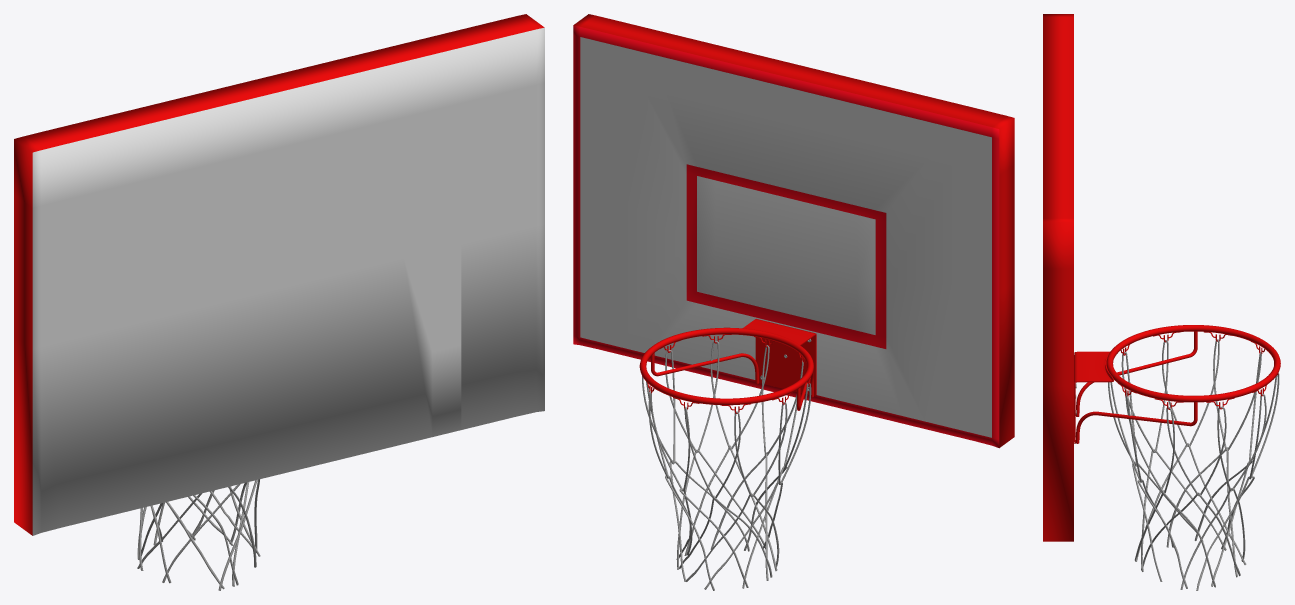
File: BasketballHoop.fbx
The picture shows the model from 3 angles, left to right: view 1: azimuth 30°, elevation 25°; view 2: azimuth 150°, elevation 25°; view 3: azimuth 270°, elevation 25°; orthographic projection. The views are drawn at different scales.
Parts seen in each view (by area): view 1: Backboard, Hoop; view 2: Backboard, Hoop; view 3: Backboard, Hoop.
Boxes of the visible parts, box(x1,y1,x2,y2) form: Backboard: box(14, 14, 544, 535); Hoop: box(137, 479, 260, 590); Backboard: box(573, 14, 1014, 448); Hoop: box(639, 319, 816, 590); Backboard: box(1043, 14, 1073, 541); Hoop: box(1074, 325, 1280, 590).
Bounding box in the file's own units: 61447 × 62108 × 29659.
